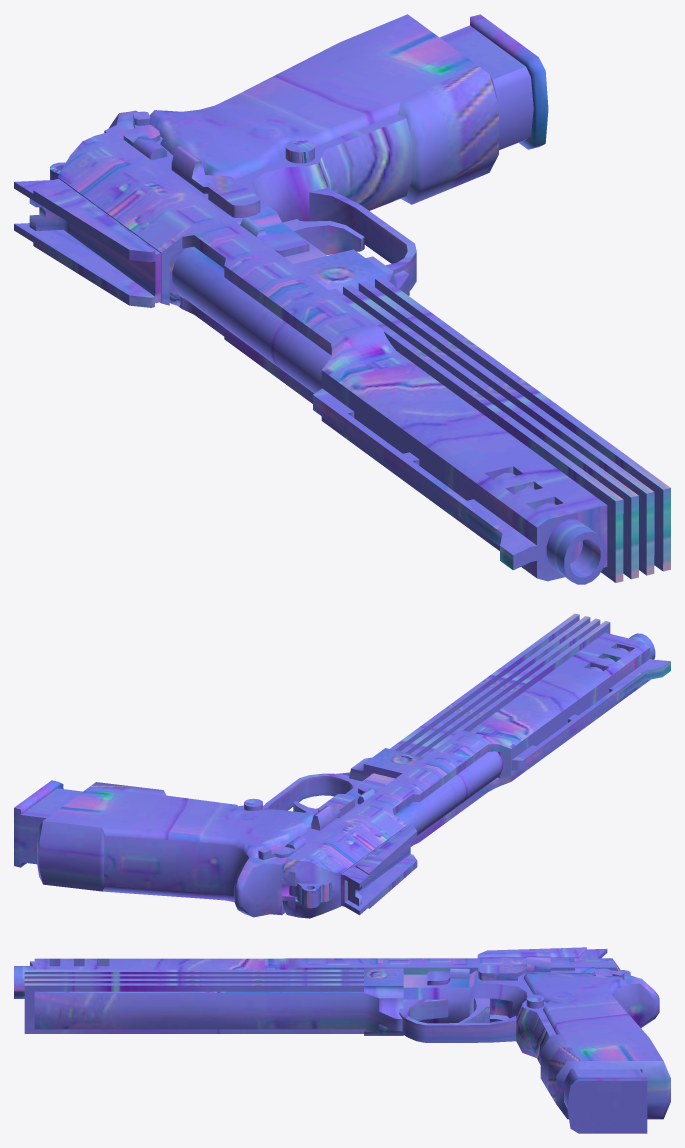
The model's file is Robogun.glb.
3 renders of one model, top to bottom at view 1: azimuth 30°, elevation 25°; view 2: azimuth 150°, elevation 25°; view 3: azimuth 270°, elevation 25°, orthographic. The views are drawn at different scales.
Visible parts, largest first — view 1: Robogun; view 2: Robogun; view 3: Robogun.
Part boxes in pixels (x1,y1,x2,y2): Robogun: (14,14,670,584); Robogun: (14,613,670,918); Robogun: (14,947,670,1133).
Bounding box in the file's own units: 2.05 × 0.4523 × 3.95.
Materials: 1 (1 with a texture image).
